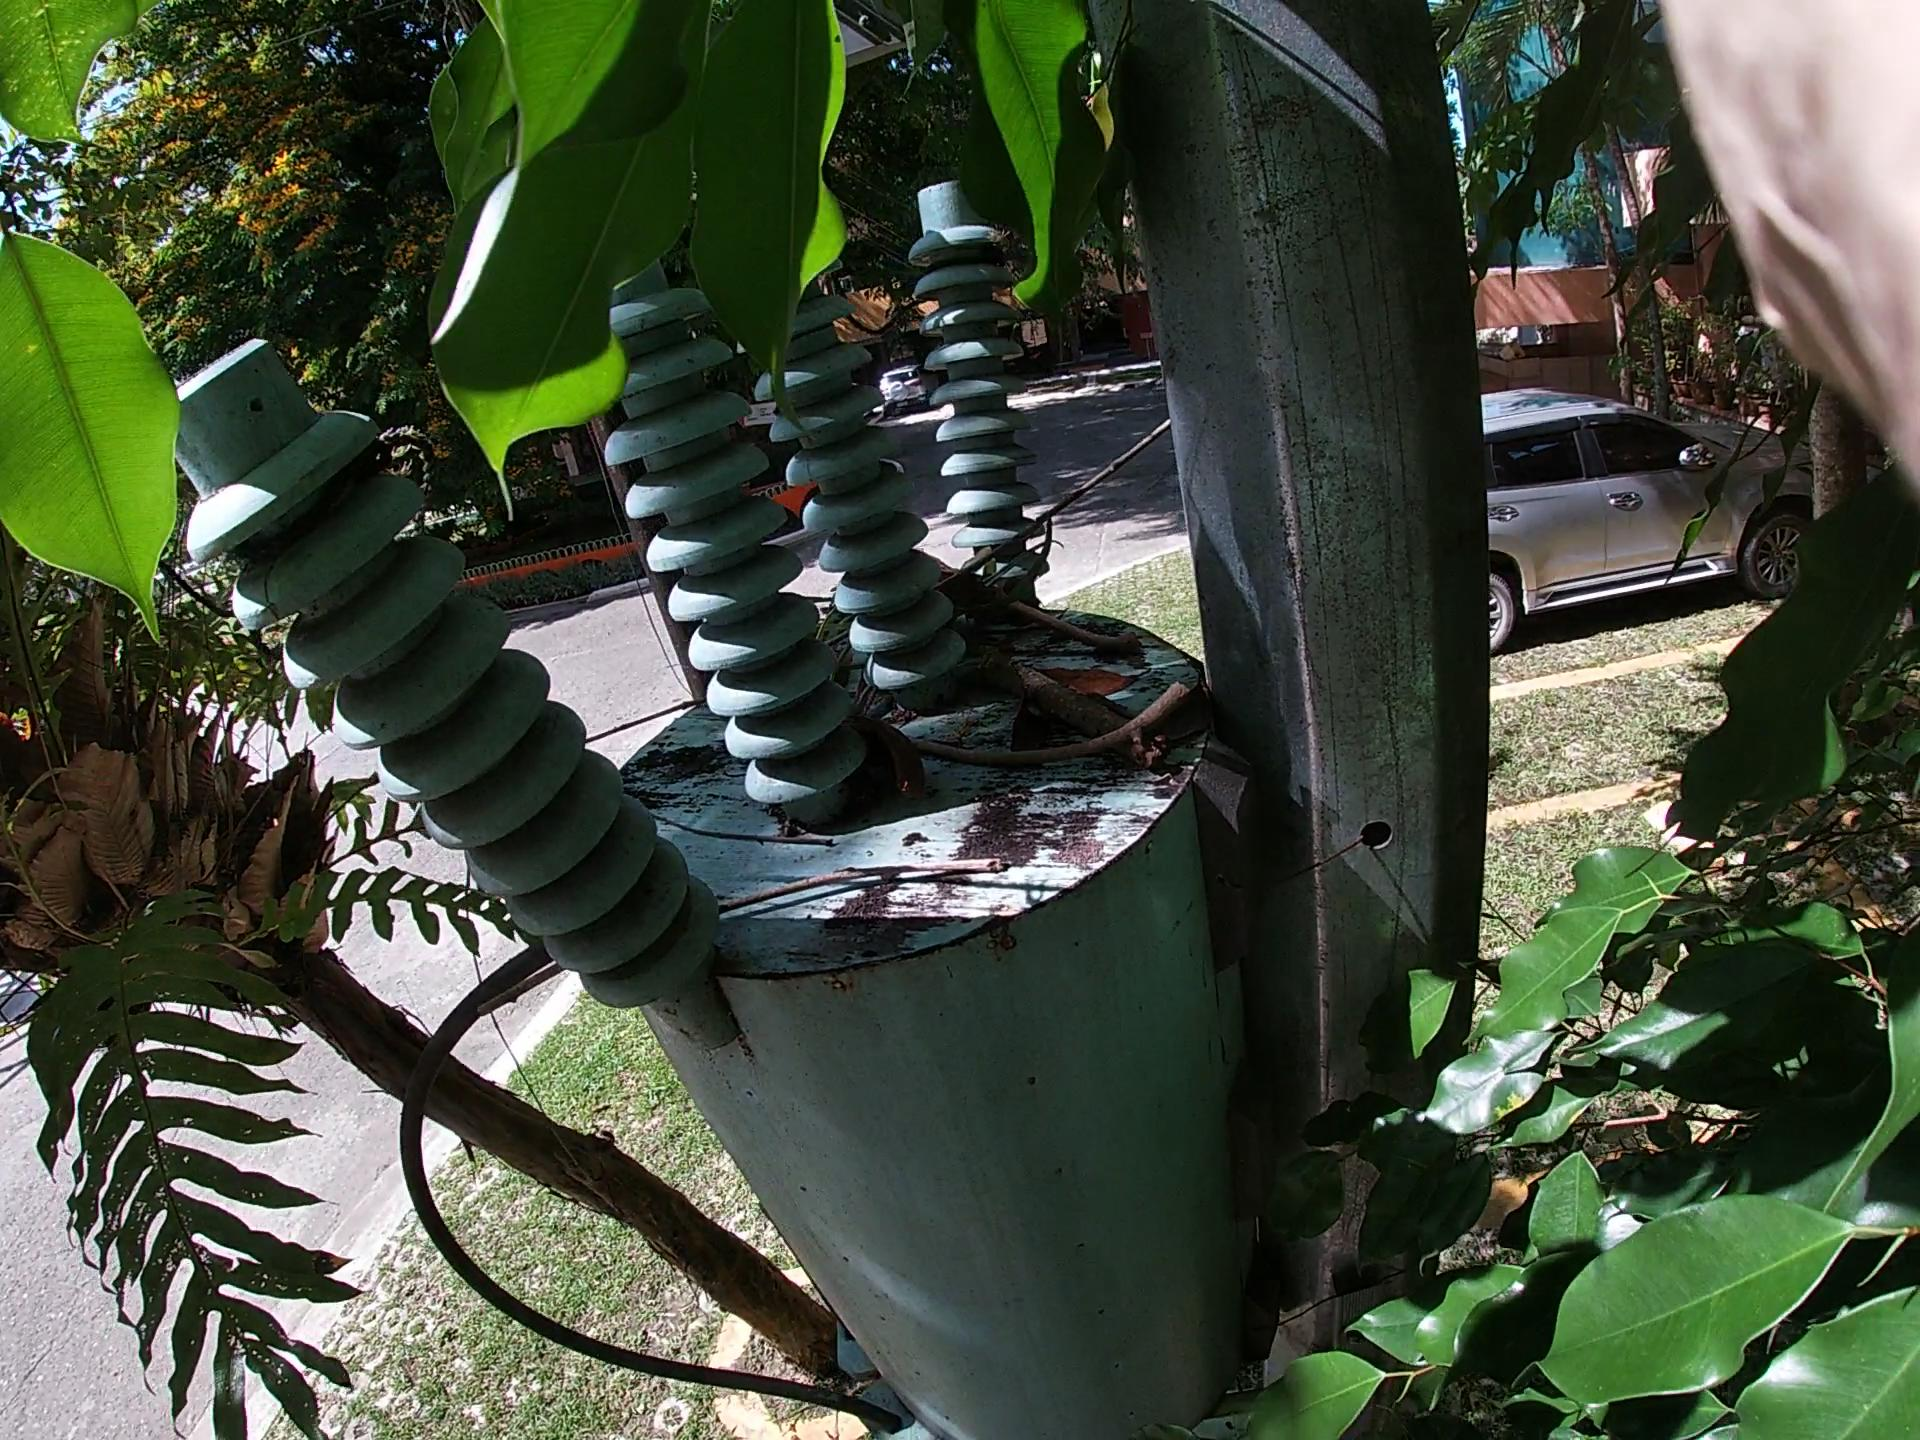branch with leaves: (819, 476, 1237, 817)
leaf: (977, 631, 1134, 815)
tree branch: (838, 384, 1228, 597), (853, 678, 1261, 824), (590, 862, 1037, 986), (918, 554, 1163, 678)
